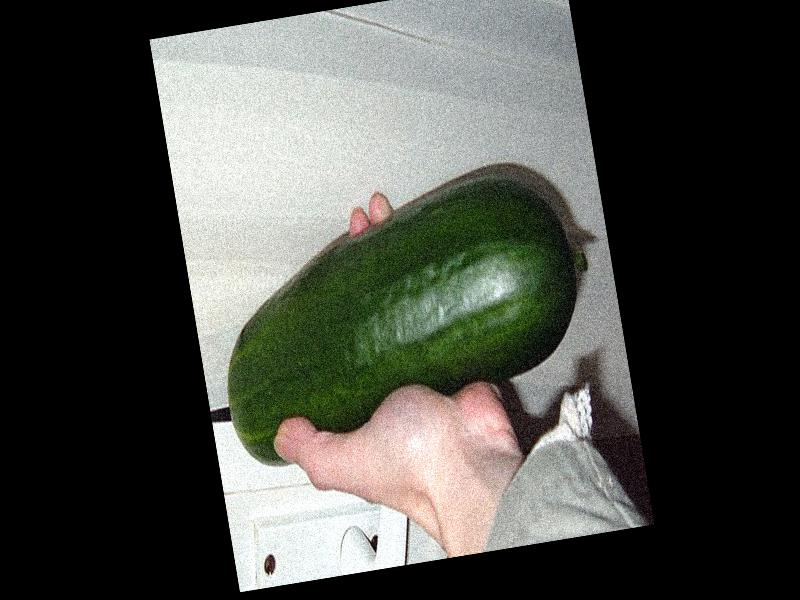Cucumber: (198, 153, 612, 470)
